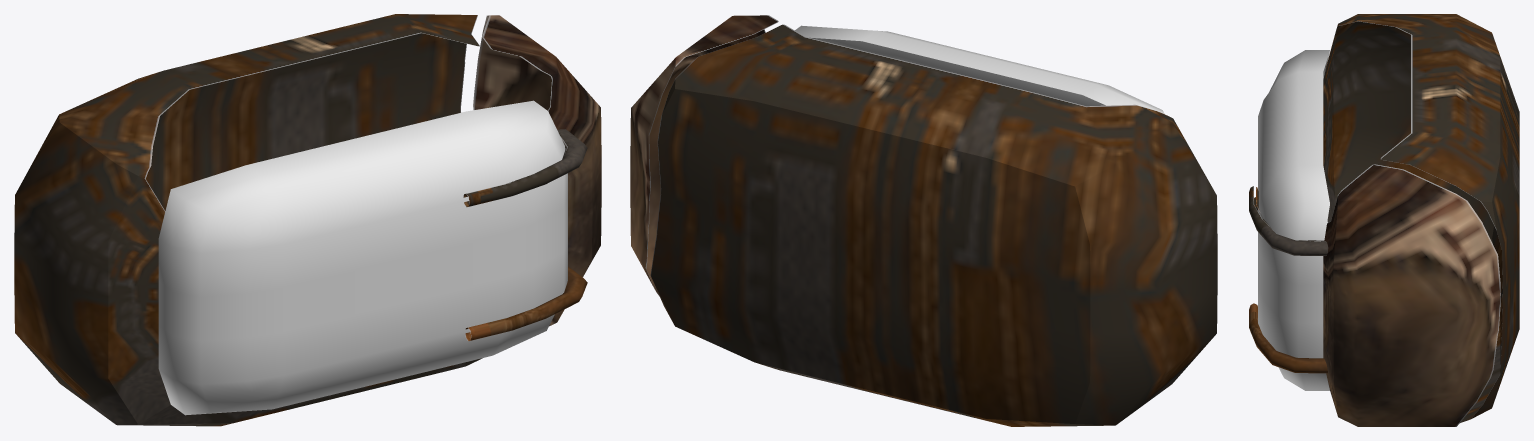
File: Light_1.fbx
3 views of the same model, side by side, from view 1: azimuth 30°, elevation 25°; view 2: azimuth 150°, elevation 25°; view 3: azimuth 270°, elevation 25° (orthographic). The views are drawn at different scales.
Parts seen in each view (by area): view 1: Light_1; view 2: Light_1; view 3: Light_1.
Part boxes in pixels (left/top/right/bottom): Light_1: left=14, top=14, right=601, bottom=426; Light_1: left=630, top=15, right=1217, bottom=426; Light_1: left=1249, top=14, right=1519, bottom=426.
Size of the model in its own units: 0.5409 by 0.3064 by 0.2782.
